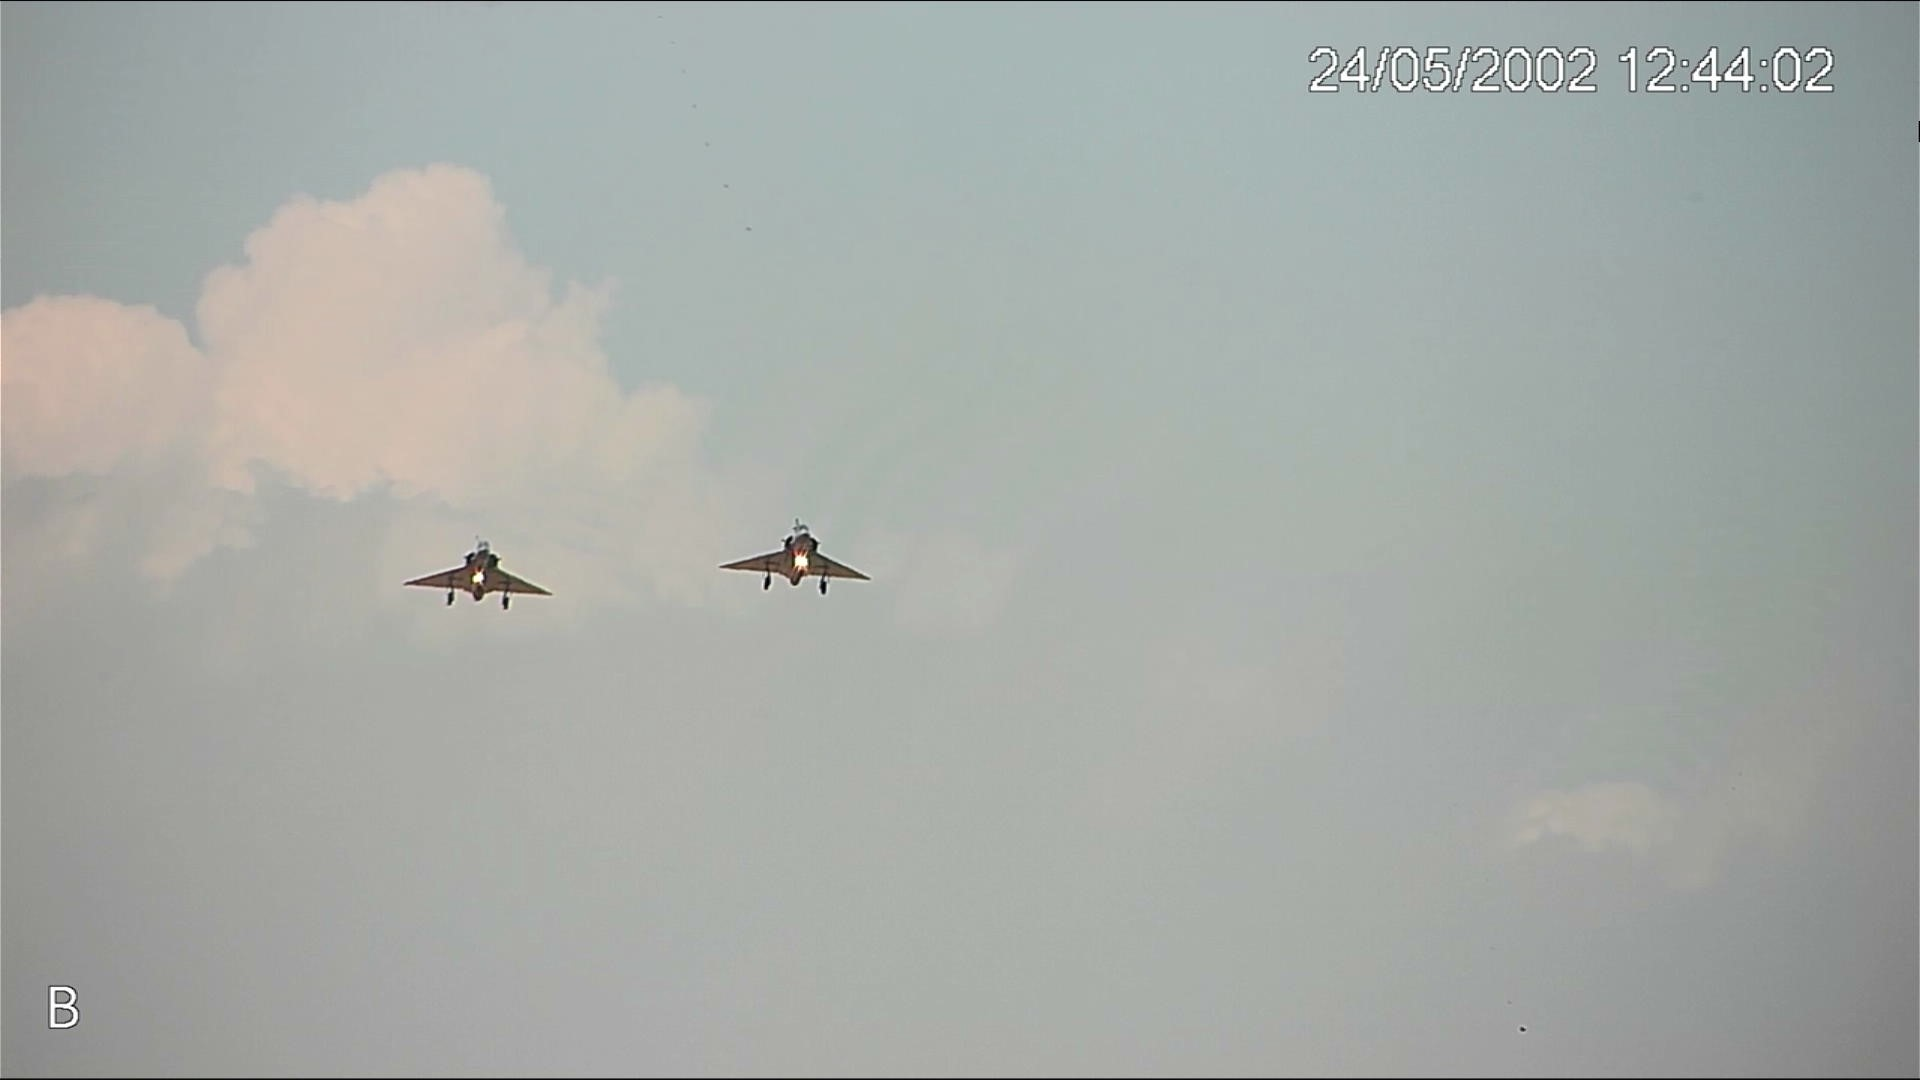SU_30: (717, 520, 872, 595), (401, 535, 556, 609)
